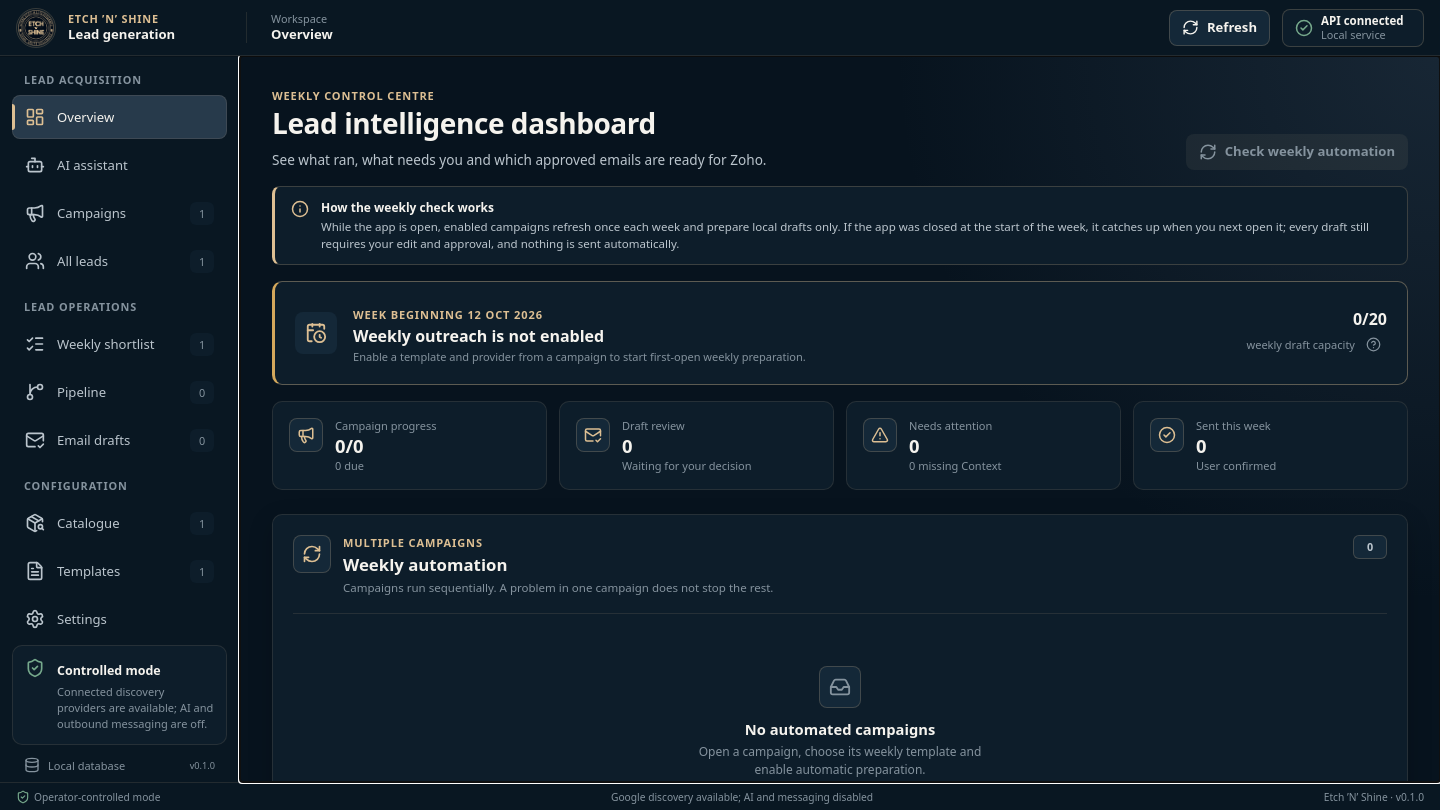
local operating workbench › places the AI assistant in the sidebar instead of Campaigns
This screenshot has width=1440, height=810.
Expected: the text "API connected" is shown, x1=1321 y1=14 x2=1404 y2=28
Expected: the link "AI assistant" is shown, x1=25 y1=155 x2=128 y2=175
Step 1. Click the link "Campaigns 1" → (120, 213), box x1=25 y1=202 x2=214 y2=224
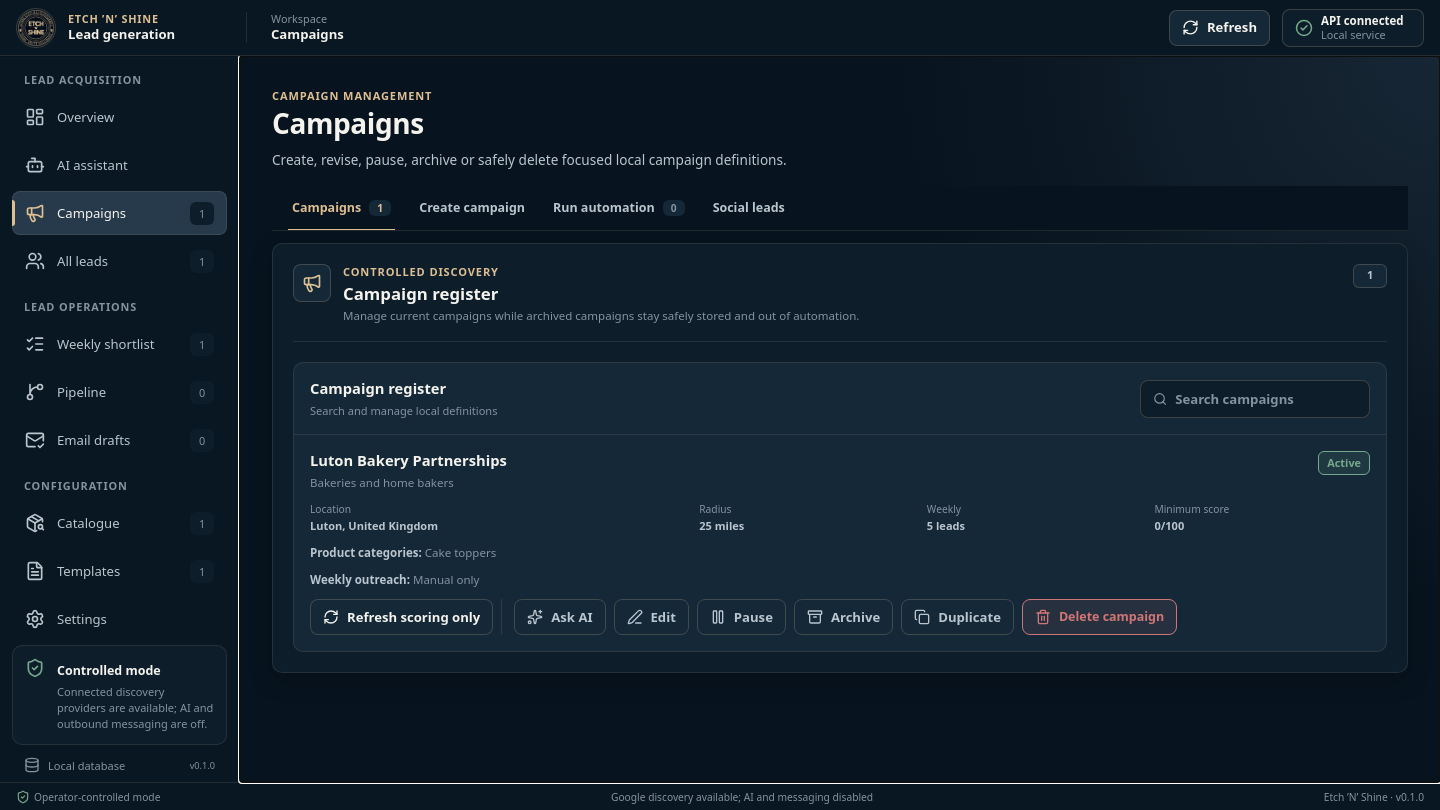
Expected: the tab "Local AI assistant" is not shown
Step 2. Click the link "AI assistant" → (76, 165), box x1=25 y1=155 x2=128 y2=175
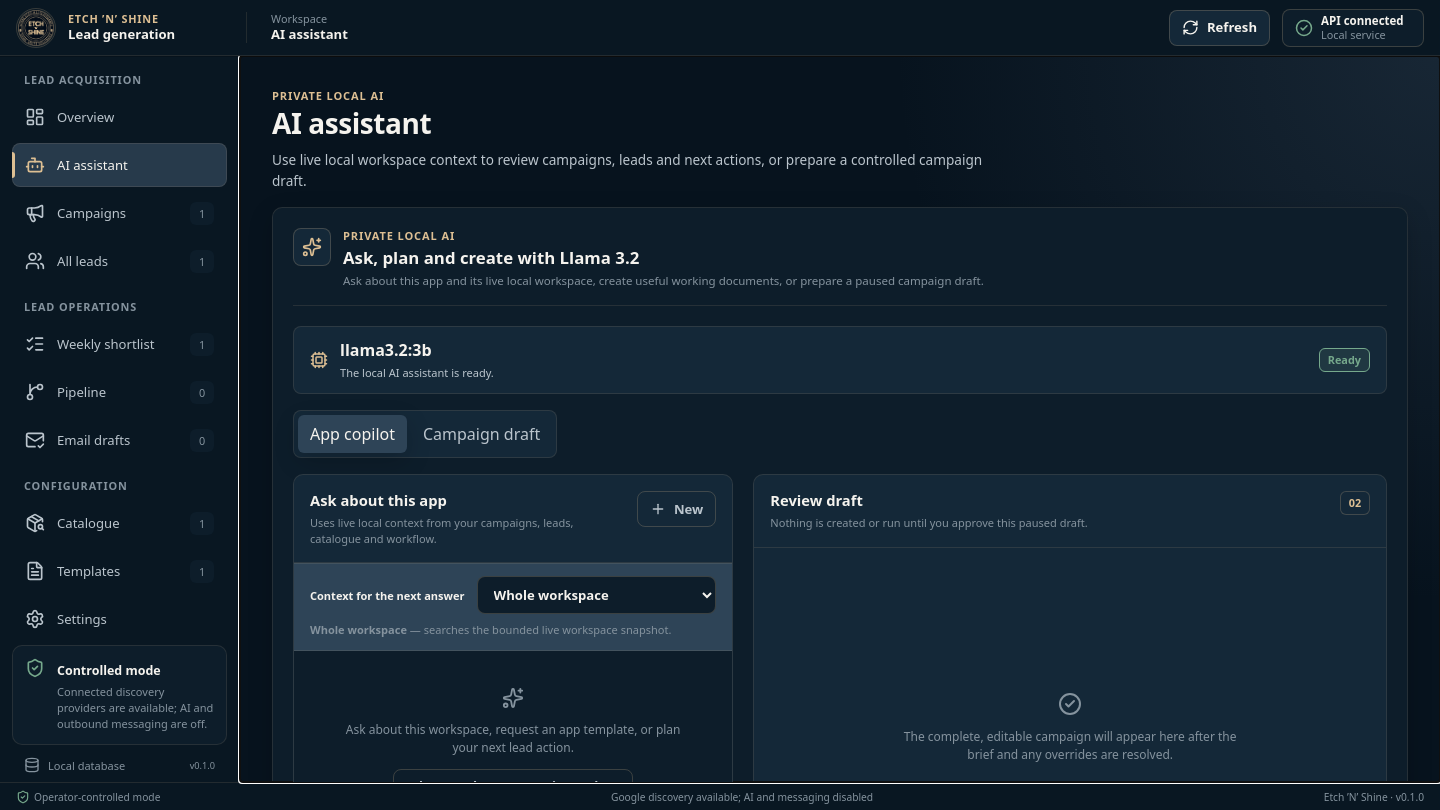
Now the heading "AI assistant" is shown, box x1=272 y1=104 x2=431 y2=142
Now the tab "App copilot" is shown, box x1=298 y1=415 x2=407 y2=453
